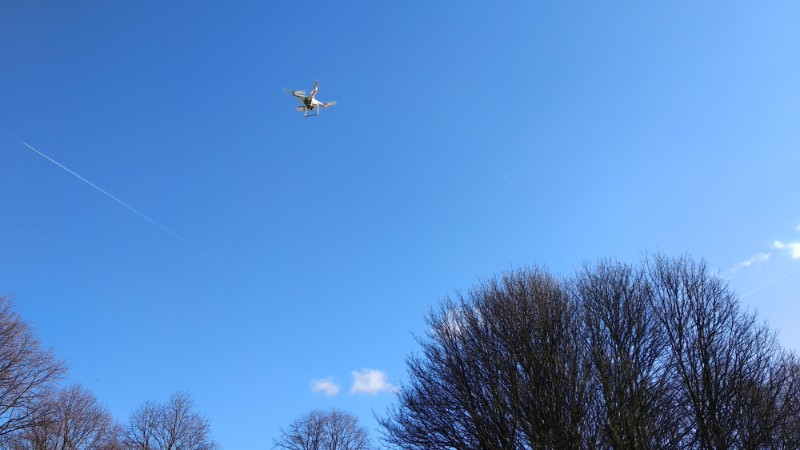drone: (283, 81, 338, 119)
